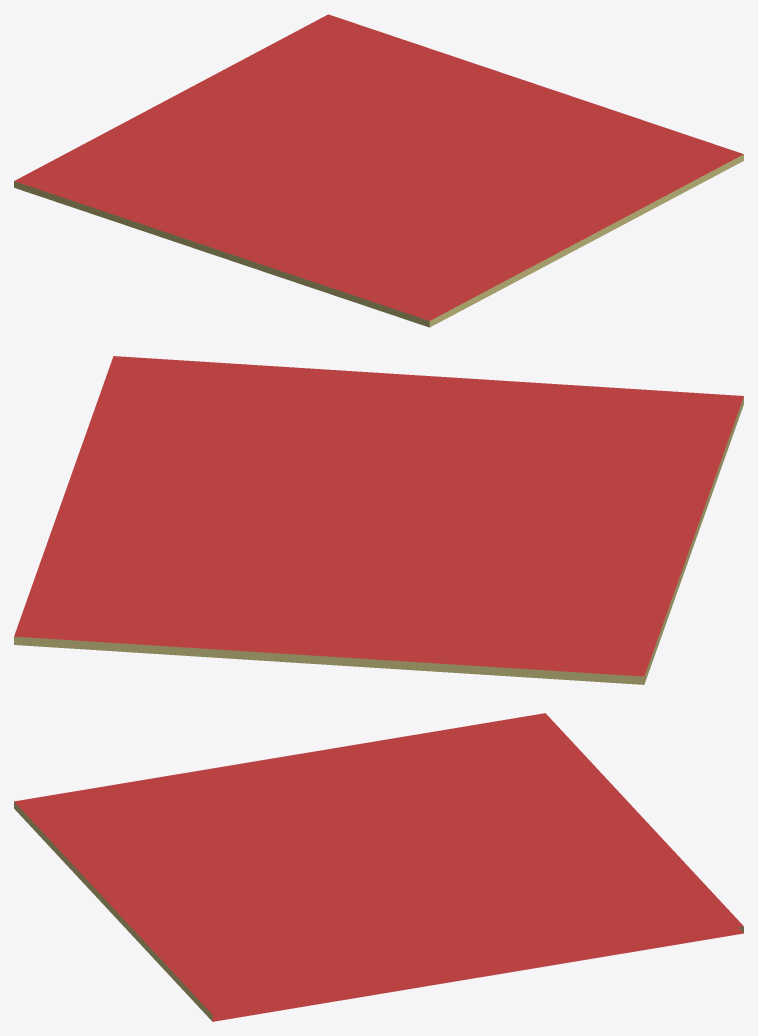
3 renders of one model, top to bottom at view 1: azimuth 30°, elevation 25°; view 2: azimuth 150°, elevation 25°; view 3: azimuth 270°, elevation 25°, orthographic. The views are drawn at different scales.
Bounding box in the file's own units: 9.1 × 9.3 × 0.1.
